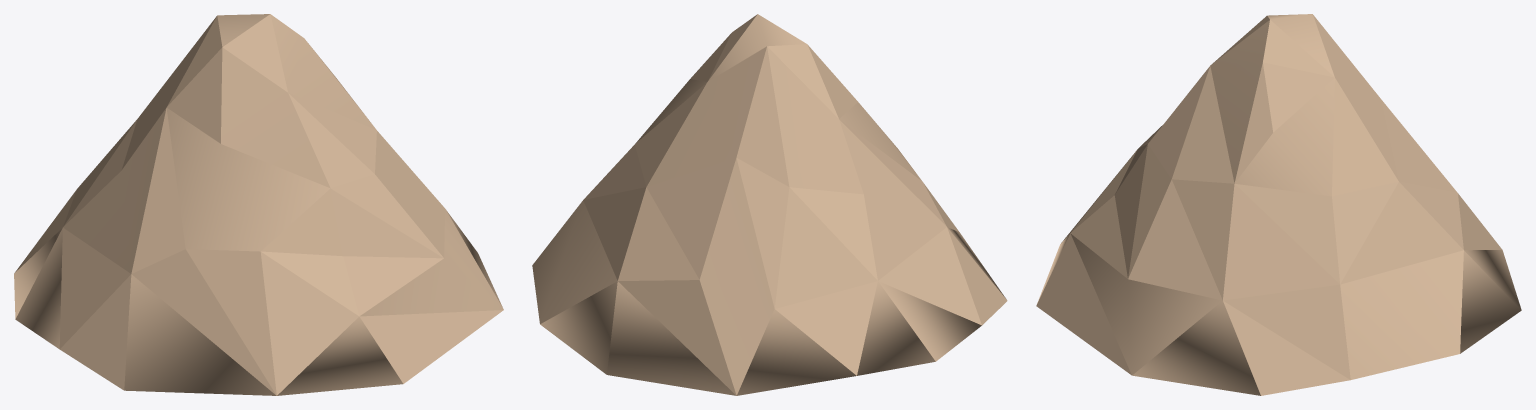
The model's file is single Mountin.fbx.
3 views of the same model, side by side, from view 1: azimuth 30°, elevation 25°; view 2: azimuth 150°, elevation 25°; view 3: azimuth 270°, elevation 25° (orthographic). The views are drawn at different scales.
Parts seen in each view (by area): view 1: Cone002; view 2: Cone002; view 3: Cone002.
Part boxes in pixels (x1,y1,x2,y2): Cone002: (14,14,503,395); Cone002: (532,14,1007,395); Cone002: (1036,14,1521,395).
Size of the model in its own units: 75.71 by 48.95 by 76.71.
